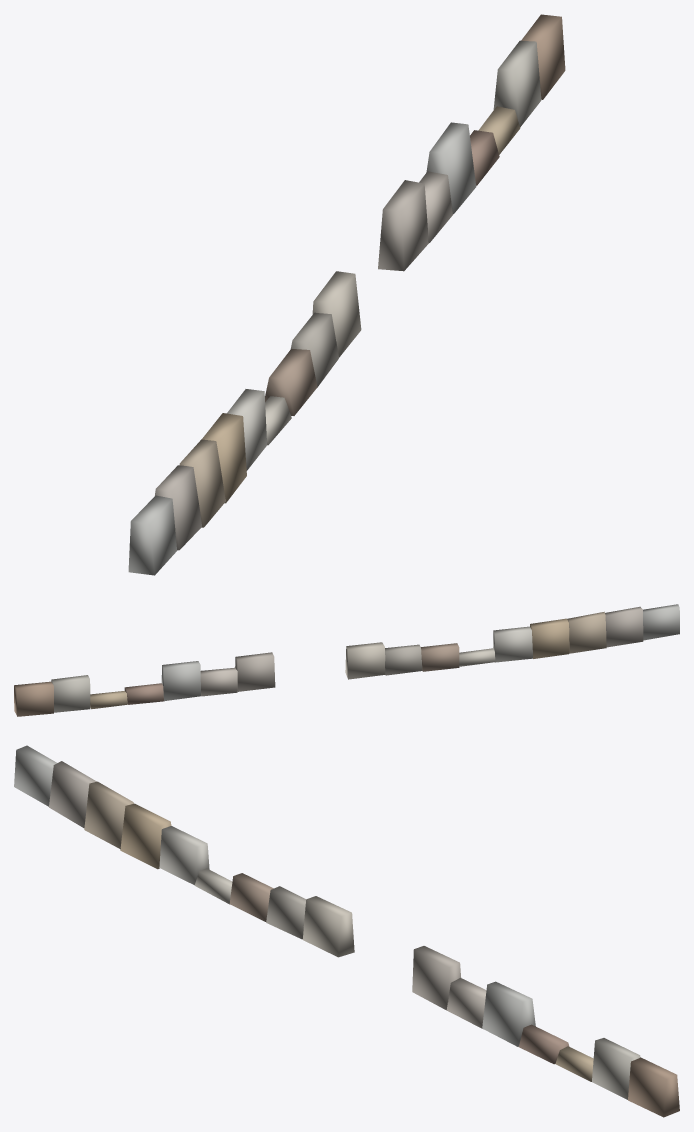
Rendered from farm_1_7_far.glb.
3 views of the same model, one above another, from view 1: azimuth 30°, elevation 25°; view 2: azimuth 150°, elevation 25°; view 3: azimuth 270°, elevation 25° (orthographic). The views are drawn at different scales.
Parts seen in each view (by area): view 1: geometry_0; view 2: geometry_0; view 3: geometry_0.
Boxes of the visible parts, left/top/right/bottom form: geometry_0: left=128, top=14, right=565, bottom=575; geometry_0: left=14, top=604, right=679, bottom=716; geometry_0: left=14, top=745, right=679, bottom=1117.
Bounding box in the file's own units: 21.33 × 2.2 × 19.59.
